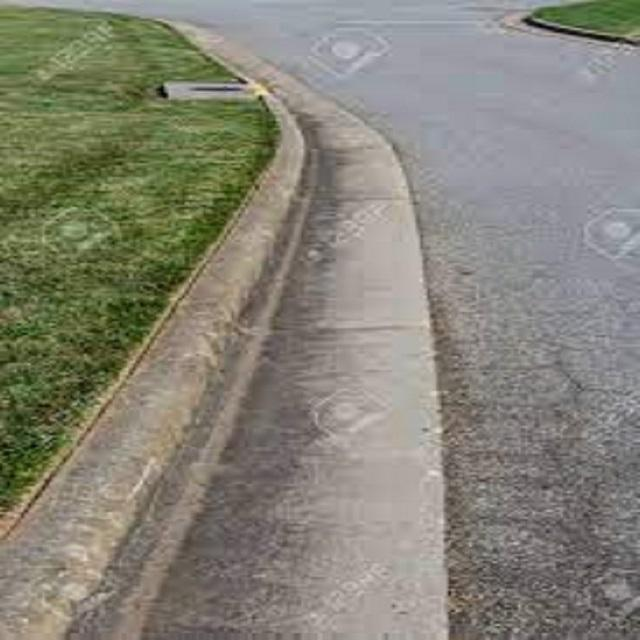curb: (1, 471, 158, 640), (81, 341, 212, 522), (172, 200, 260, 357), (245, 85, 324, 247)
